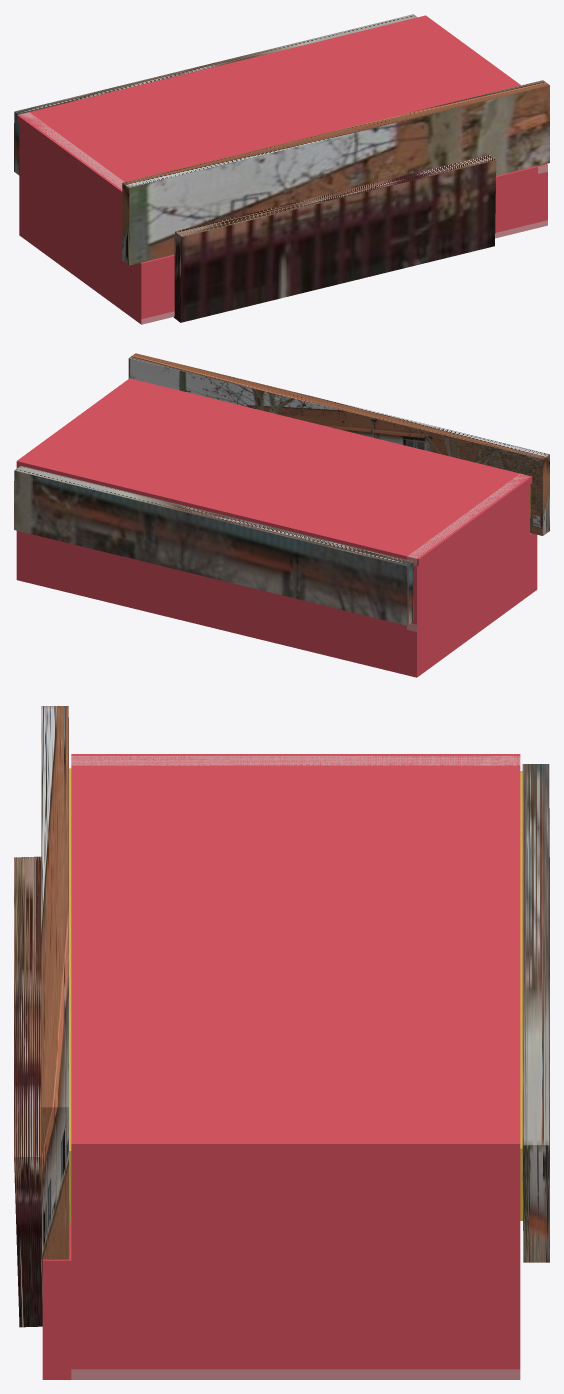
File: museo2.glb
3 views of the same model, one above another, from view 1: azimuth 30°, elevation 25°; view 2: azimuth 150°, elevation 25°; view 3: azimuth 270°, elevation 25° (orthographic). The views are drawn at different scales.
Parts seen in each view (by area): view 1: Cube, Cube.002, Cube.001, Cube.003; view 2: Cube, Cube.003, Cube.001; view 3: Cube, Cube.001, Cube.003, Cube.002, ventana1, ventana1.001.
Boxes of the visible parts, <box> form: Cube: <box>17,15,547,324</box>; Cube.002: <box>173,155,496,322</box>; Cube.001: <box>122,80,549,265</box>; Cube.003: <box>14,14,417,175</box>; Cube: <box>16,378,537,677</box>; Cube.003: <box>14,465,414,625</box>; Cube.001: <box>128,353,549,535</box>; Cube: <box>42,754,520,1379</box>; Cube.001: <box>41,706,69,1259</box>; Cube.003: <box>522,764,549,1262</box>; Cube.002: <box>14,856,42,1327</box>; ventana1: <box>69,768,71,1223</box>; ventana1.001: <box>520,771,522,1220</box>.
Bounding box in the file's own units: 367 × 119 × 207.
Materials: 8 (3 with a texture image).
